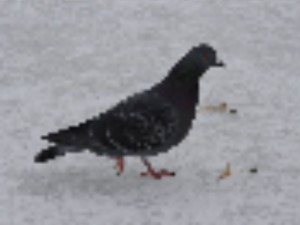pigeon: (32, 40, 228, 181)
